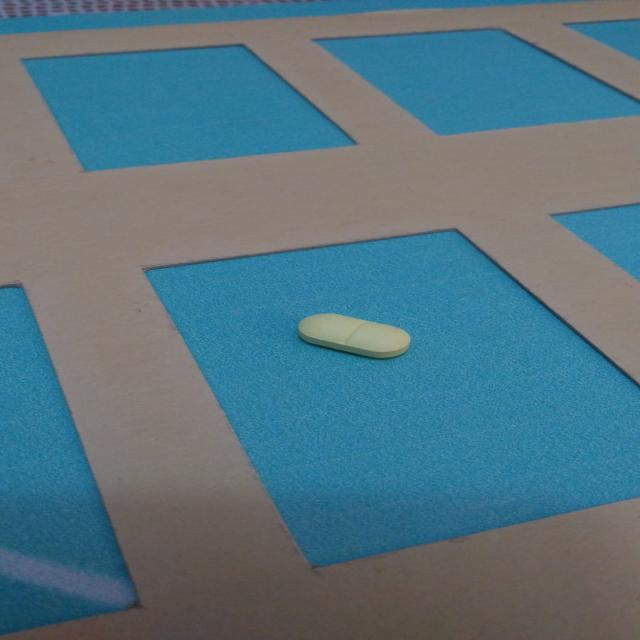pills: (288, 300, 430, 368)
